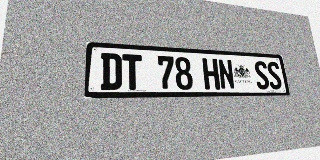7: (156, 56, 176, 90)
8: (174, 57, 193, 90)
D: (100, 53, 122, 90)
H: (202, 58, 220, 90)
N: (217, 59, 235, 90)
S: (253, 61, 270, 89), (266, 61, 283, 89)
T: (122, 54, 143, 90)
